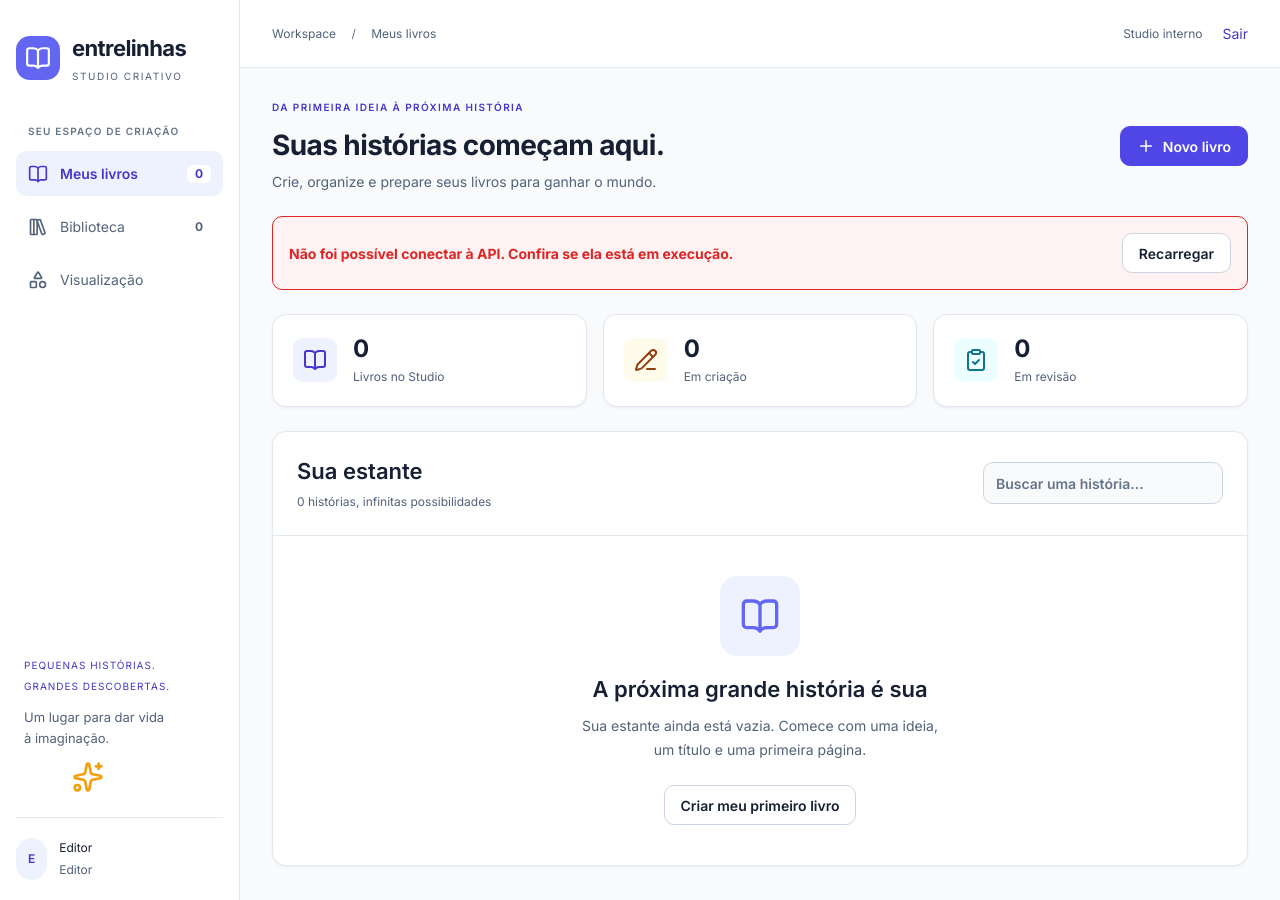
mostra falha da API e permite recarregar
Expected: the message shows "conectar", x1=289 y1=244 x2=733 y2=262
Click the button "Recarregar": (1176, 253) x1=1122 y1=233 x2=1231 y2=273
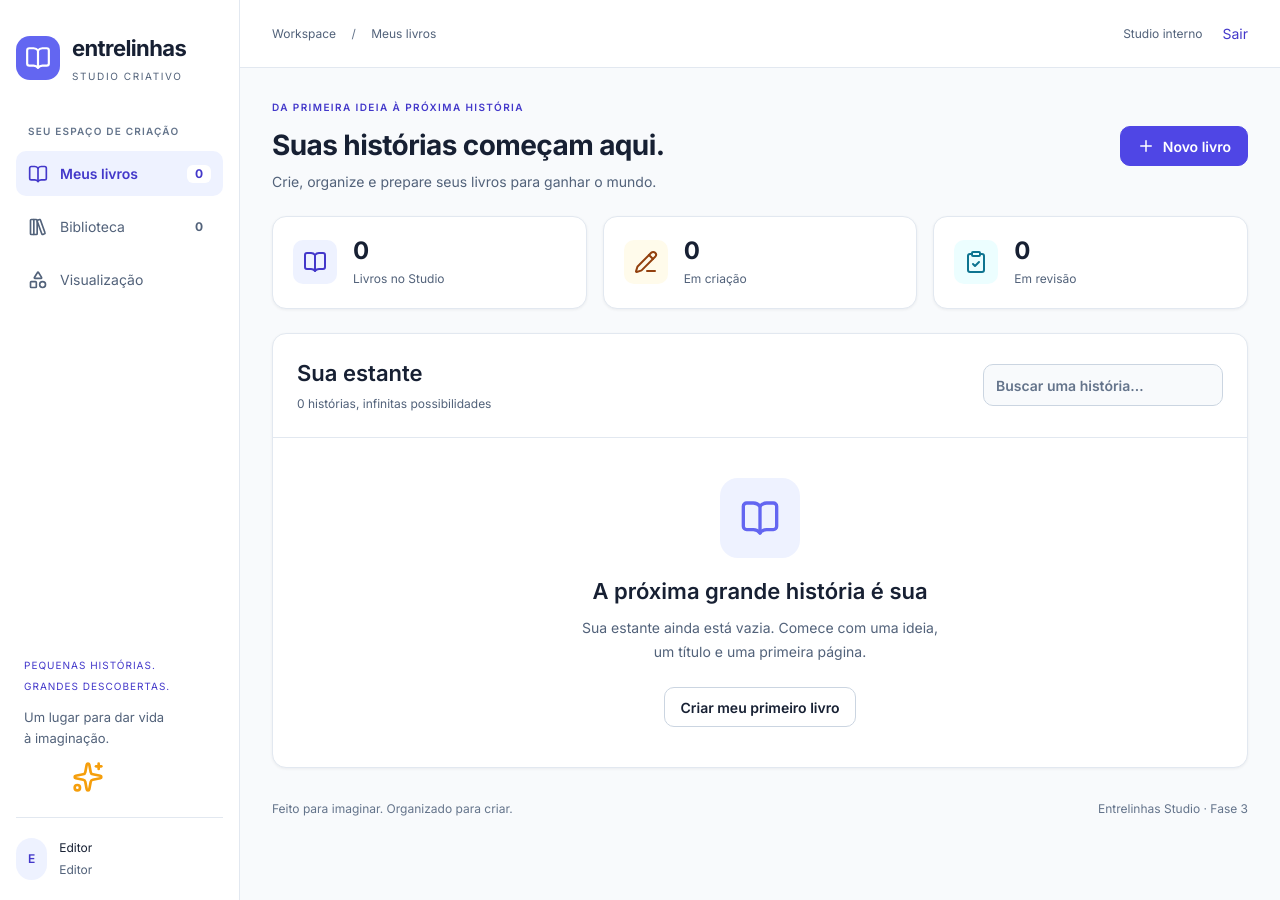
Expected: the heading "A próxima grande história é sua" is shown, x1=592 y1=578 x2=928 y2=604
Expected: the message "Não foi possível conectar à API. Confira se ela está em execução. Recarregar" is gone
